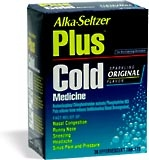grozi_99: (26, 0, 148, 160)
